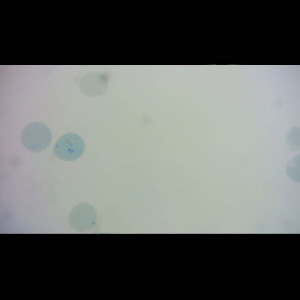aggregate reticulocyte: (52, 132, 86, 162)
erythrocyte: (77, 71, 111, 99)
punctate reticulocyte: (19, 122, 53, 153), (67, 203, 98, 233)
